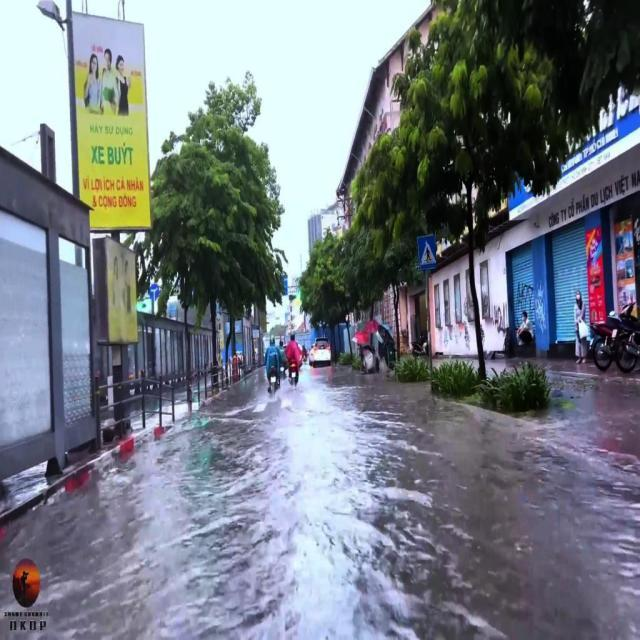224-duong-nguoi-di-bo-cat-ngang: (417, 232, 438, 270)
